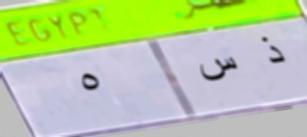5: (76, 65, 103, 97)
seen: (191, 50, 240, 89)
zaal: (255, 33, 287, 70)
